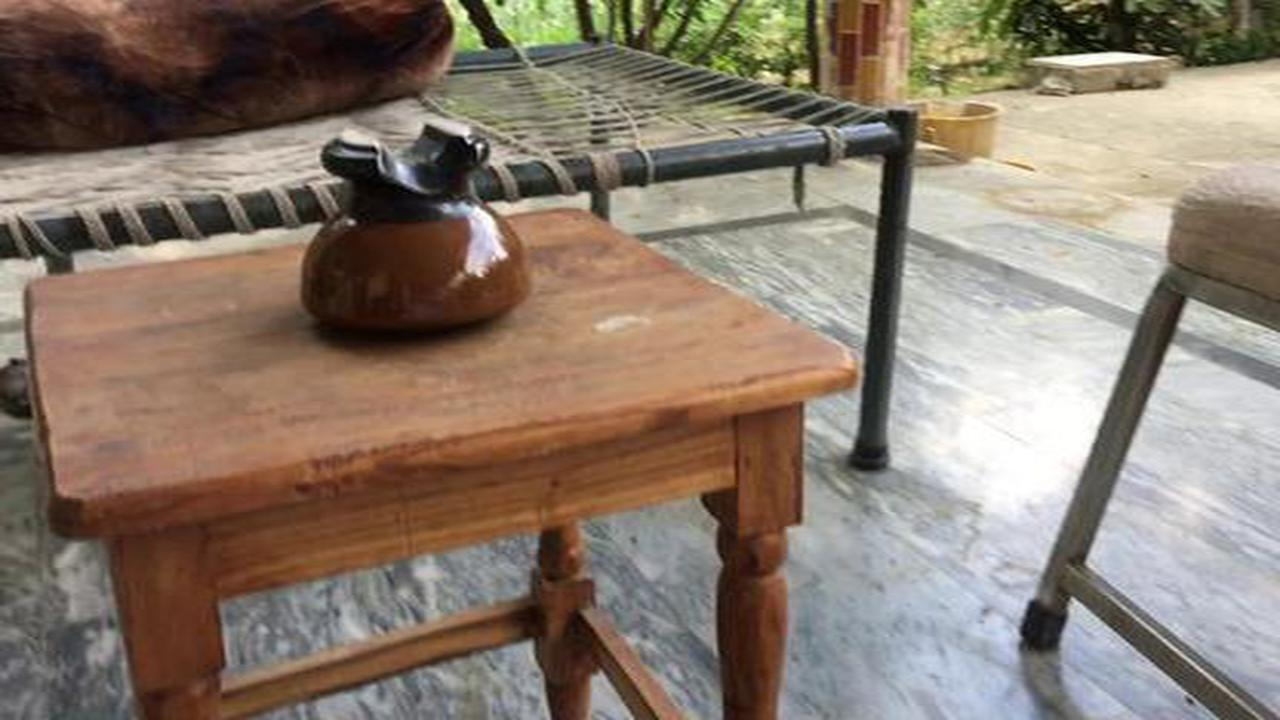insulator_pin: (284, 106, 548, 352)
